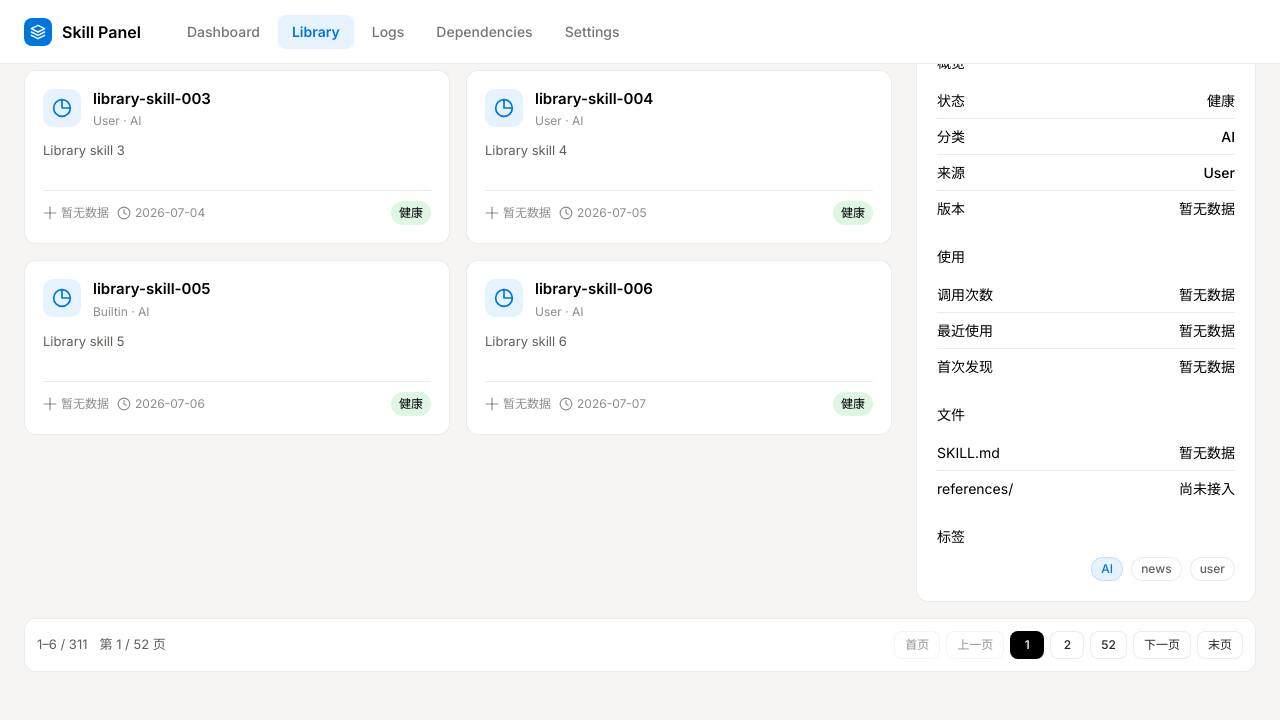
Scenario: AppShell Tauri event fallback › calculates 311 scanned skills as 52 pages and keeps the last page size correct
(page scrolled)
Expected: the text "第 1 / 52 页" is shown, [100,635,166,655]
Click the button "末页" at [1220, 645], box [1197,631,1243,659]
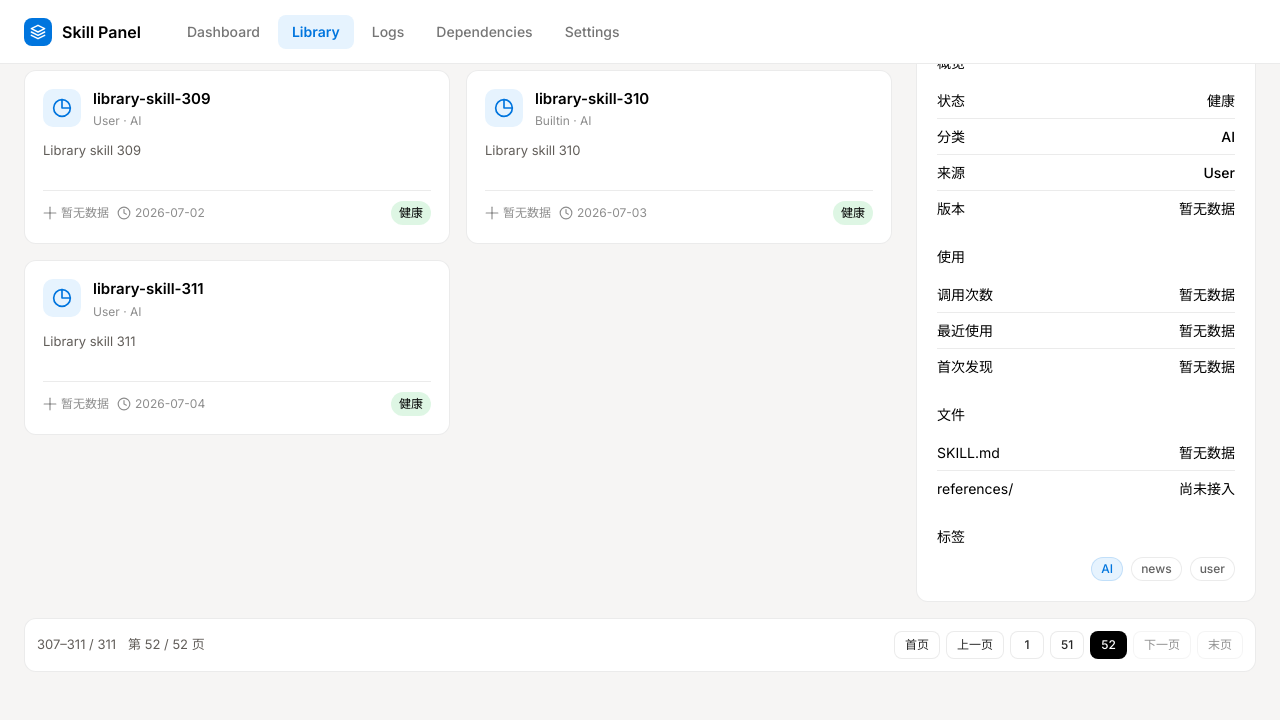
Expected: the text "307–311 / 311" is shown, [37,635,116,655]
Expected: the text "library-skill-311" is shown, [93,279,204,300]
